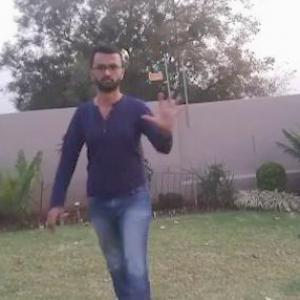follow_hand: (142, 86, 188, 128)
